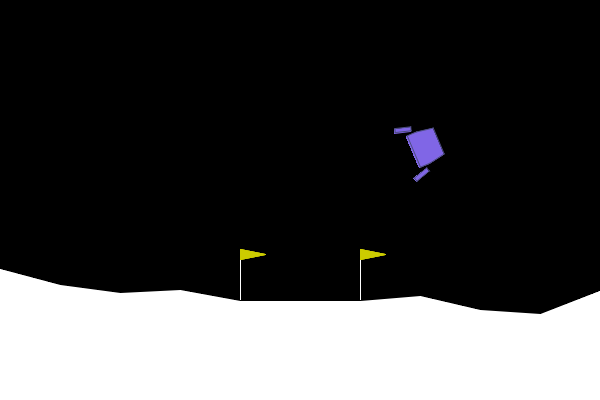lander: (392, 113, 452, 184)
